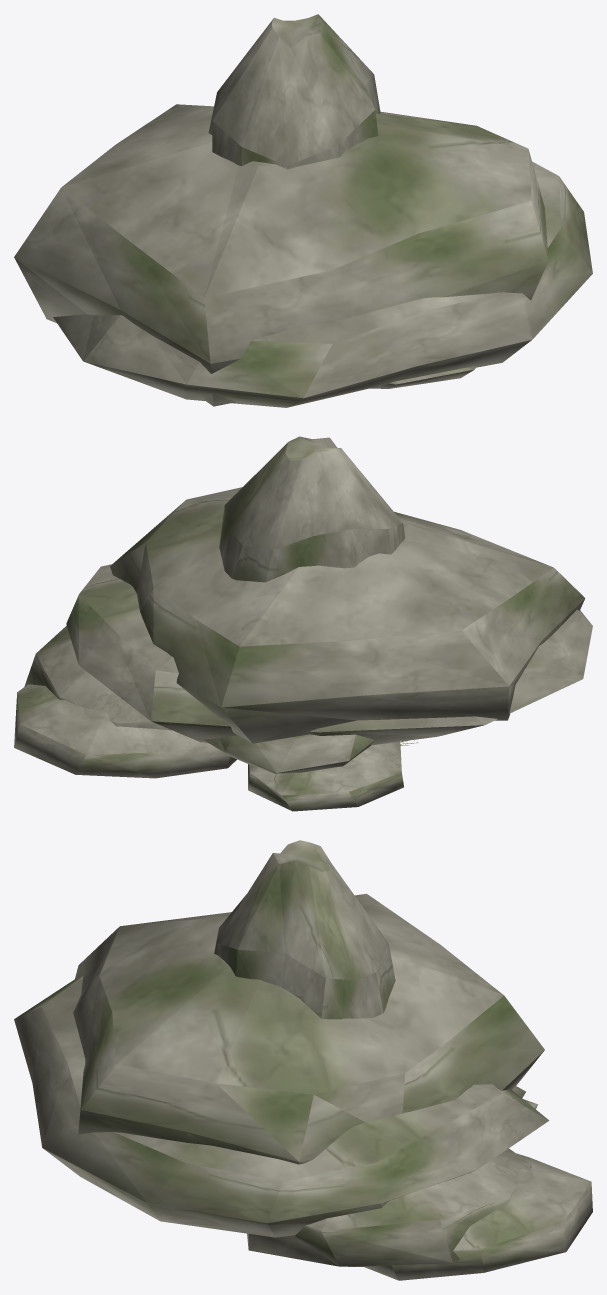
File: vado_rocas.glb
3 renders of one model, top to bottom at view 1: azimuth 30°, elevation 25°; view 2: azimuth 150°, elevation 25°; view 3: azimuth 270°, elevation 25°, orthographic. The views are drawn at different scales.
Visible parts, largest first — view 1: roca_05__rock_largeF, roca_04__rock_largeC, roca_06__rock_tallC, roca_03__rock_largeA; view 2: roca_05__rock_largeF, roca_04__rock_largeC, roca_06__rock_tallC, roca_03__rock_largeA; view 3: roca_05__rock_largeF, roca_04__rock_largeC, roca_06__rock_tallC.
Boxes of the visible parts, <box> form: roca_05__rock_largeF: <box>14,104,548,406</box>; roca_04__rock_largeC: <box>53,161,592,407</box>; roca_06__rock_tallC: <box>208,14,380,169</box>; roca_03__rock_largeA: <box>370,366,476,388</box>; roca_05__rock_largeF: <box>24,487,585,743</box>; roca_04__rock_largeC: <box>14,564,592,778</box>; roca_06__rock_tallC: <box>219,436,405,582</box>; roca_03__rock_largeA: <box>204,734,403,811</box>; roca_05__rock_largeF: <box>73,893,544,1266</box>; roca_04__rock_largeC: <box>14,976,592,1280</box>; roca_06__rock_tallC: <box>214,840,395,1019</box>.
Size of the model in its own units: 5.3 by 3.2 by 5.06.
Materials: 1 (1 with a texture image).
